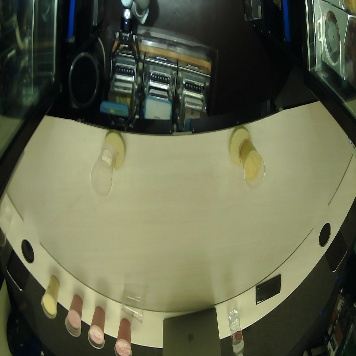empty_cup: (89, 145, 119, 196), (118, 286, 148, 320), (1, 203, 15, 246)
full_cup: (239, 140, 272, 190), (63, 288, 84, 338), (41, 271, 61, 319), (88, 299, 108, 347), (112, 308, 132, 356)
puck: (101, 130, 131, 170), (224, 124, 254, 164)
